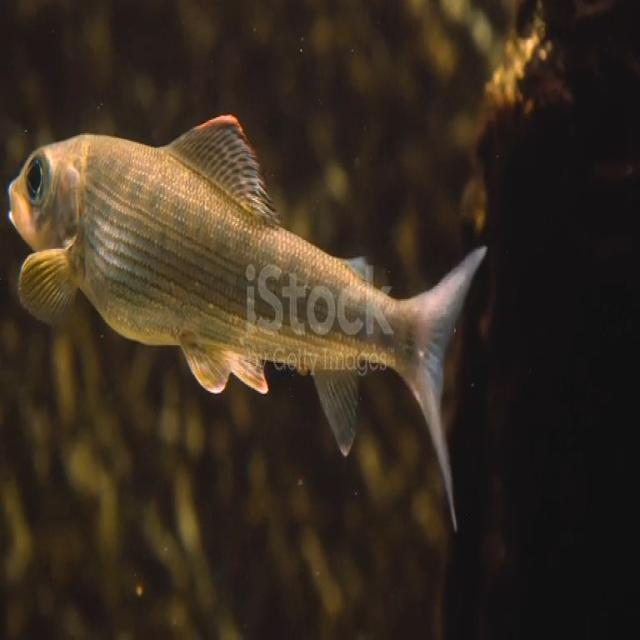fish: (3, 109, 489, 535)
